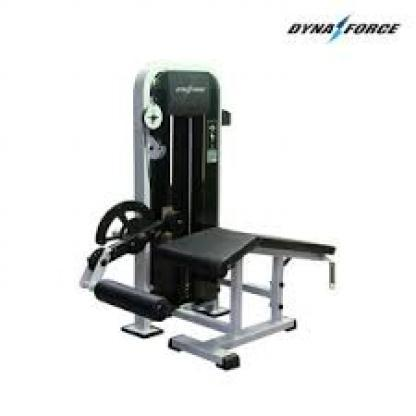reg curl machine: (76, 63, 339, 376)
